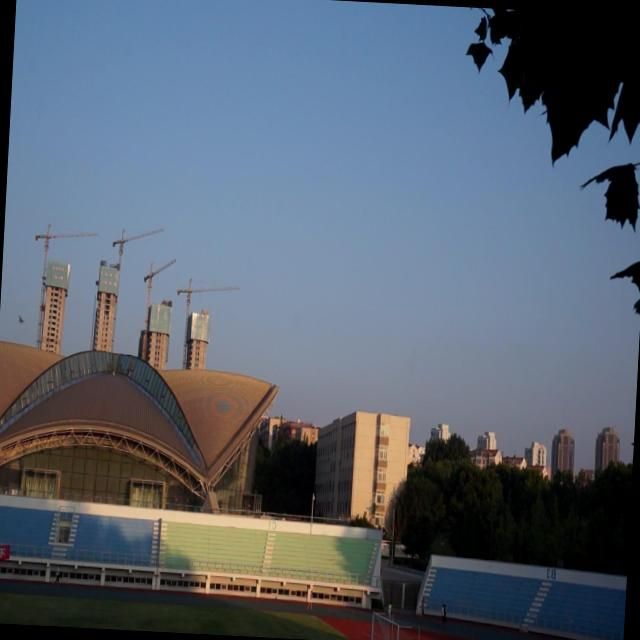drone: (14, 312, 27, 329)
